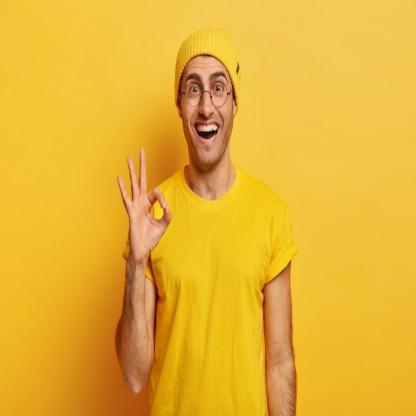ok: (114, 143, 175, 266)
